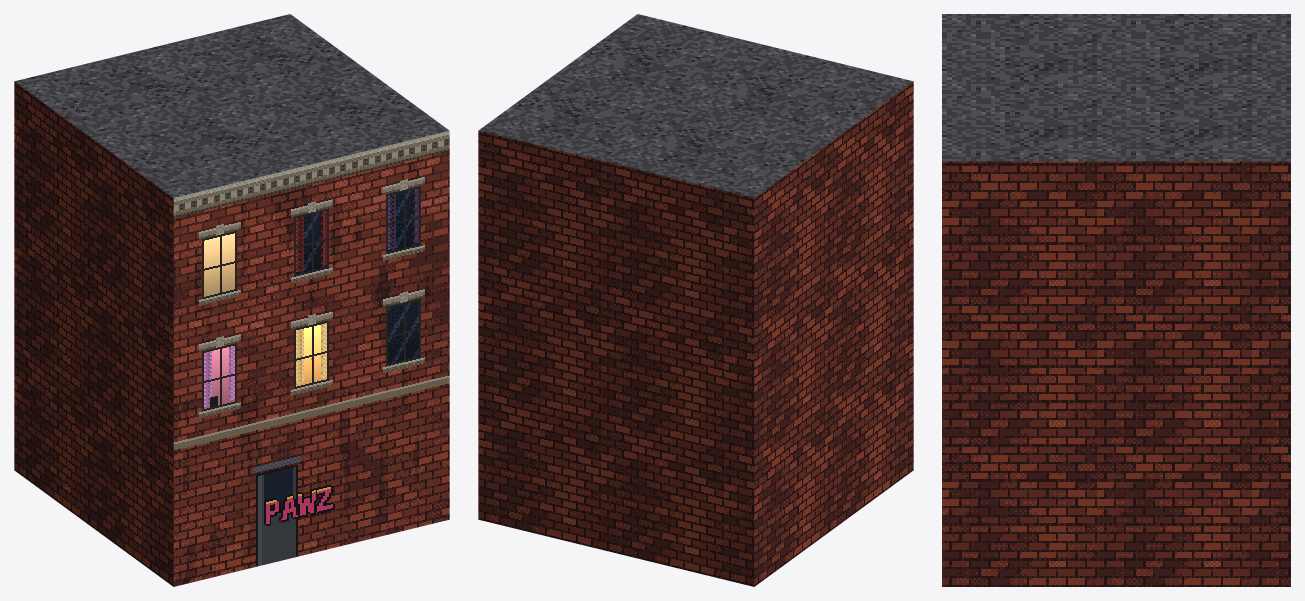
The model's file is Kulisse_0.glb.
3 renders of one model, left to right at view 1: azimuth 30°, elevation 25°; view 2: azimuth 150°, elevation 25°; view 3: azimuth 270°, elevation 25°, orthographic. The views are drawn at different scales.
Parts seen in each view (by area): view 1: Kulisse_0; view 2: Kulisse_0; view 3: Kulisse_0.
Part boxes in pixels (x1=…): Kulisse_0: x1=14, y1=14, x2=449, y2=586; Kulisse_0: x1=478, y1=14, x2=913, y2=586; Kulisse_0: x1=942, y1=14, x2=1290, y2=586.
Bounding box in the file's own units: 9 × 12.12 × 9.
3 materials, 3 textured.
